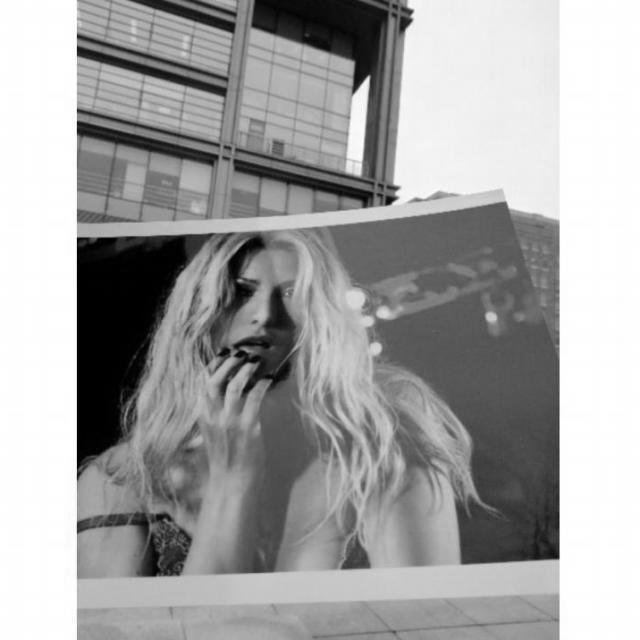fake: (78, 186, 560, 614)
